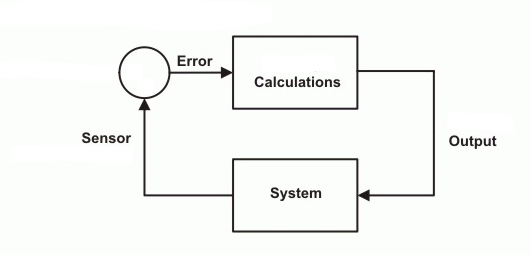arrow: (357, 68, 437, 202), (137, 98, 234, 198), (170, 66, 233, 80)
connection: (116, 45, 174, 101)
process: (230, 156, 361, 235), (231, 34, 361, 112)
text: (253, 73, 341, 90), (446, 133, 499, 150), (79, 130, 133, 146), (270, 185, 322, 201), (175, 54, 215, 69)
